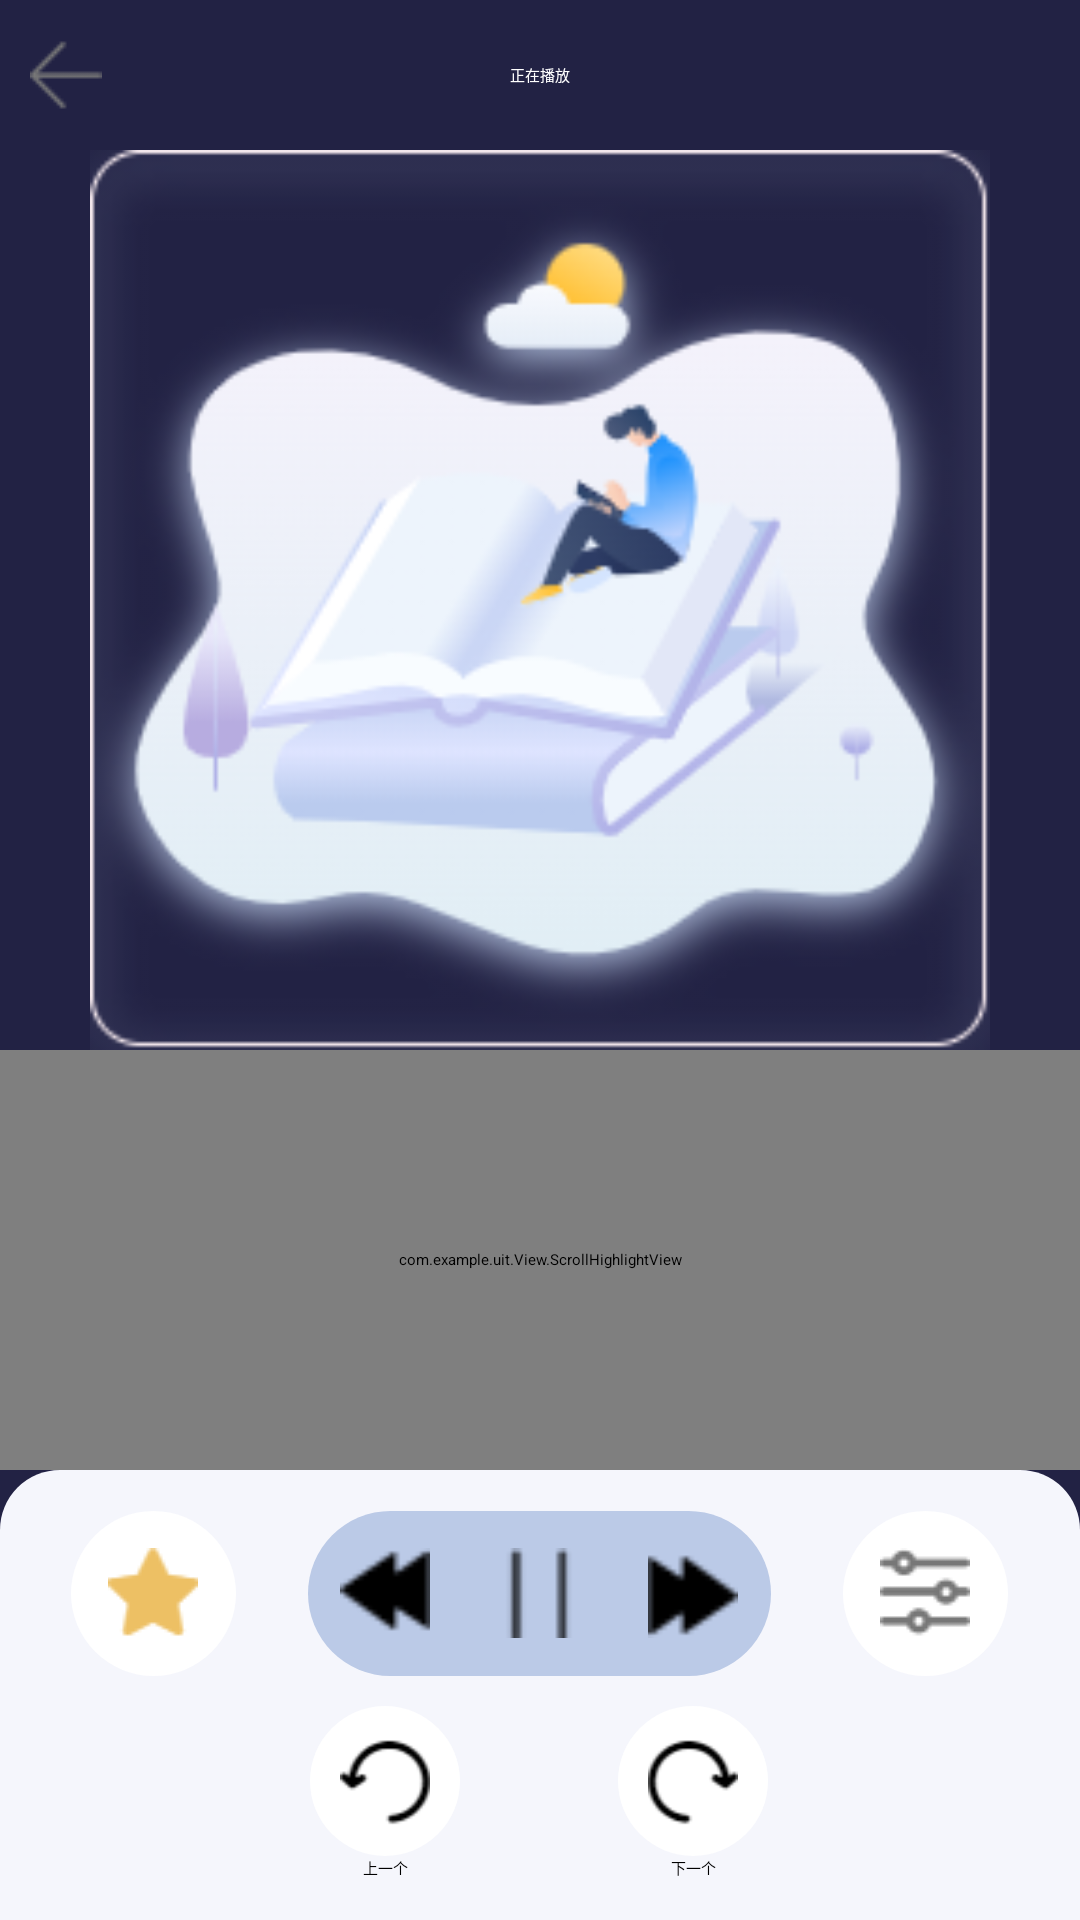

Named icons in this screenshot (1080x1920) and their centers, point (x, y):
back: point (66, 75)
dictation setting: point (925, 1592)
dictation star: point (153, 1592)
